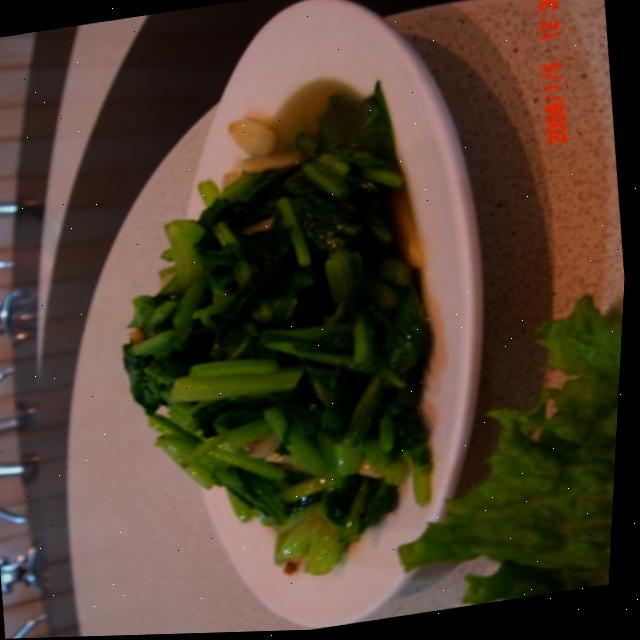蔬菜料理: (32, 7, 542, 639)
